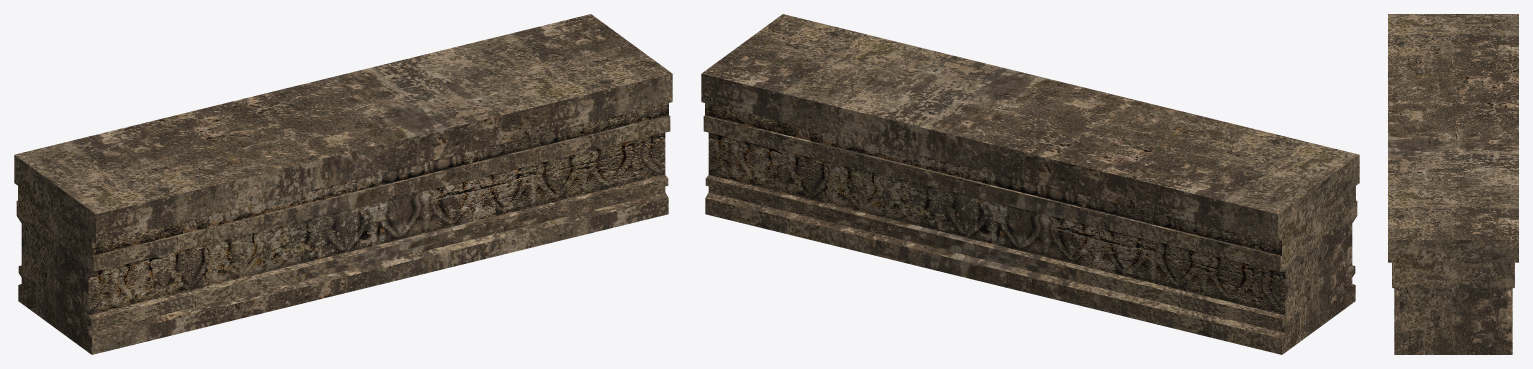
File: materials_5_stonestick_short_7.fbx
3 renders of one model, left to right at view 1: azimuth 30°, elevation 25°; view 2: azimuth 150°, elevation 25°; view 3: azimuth 270°, elevation 25°, orthographic. The views are drawn at different scales.
Visible parts, largest first — view 1: materials_5_stonestick_short_7; view 2: materials_5_stonestick_short_7; view 3: materials_5_stonestick_short_7.
Part boxes in pixels (left/top/right/bottom): materials_5_stonestick_short_7: left=14, top=14, right=672, bottom=354; materials_5_stonestick_short_7: left=701, top=14, right=1359, bottom=354; materials_5_stonestick_short_7: left=1388, top=14, right=1518, bottom=354.
Size of the model in its own units: 96.17 by 22.86 by 23.57.
